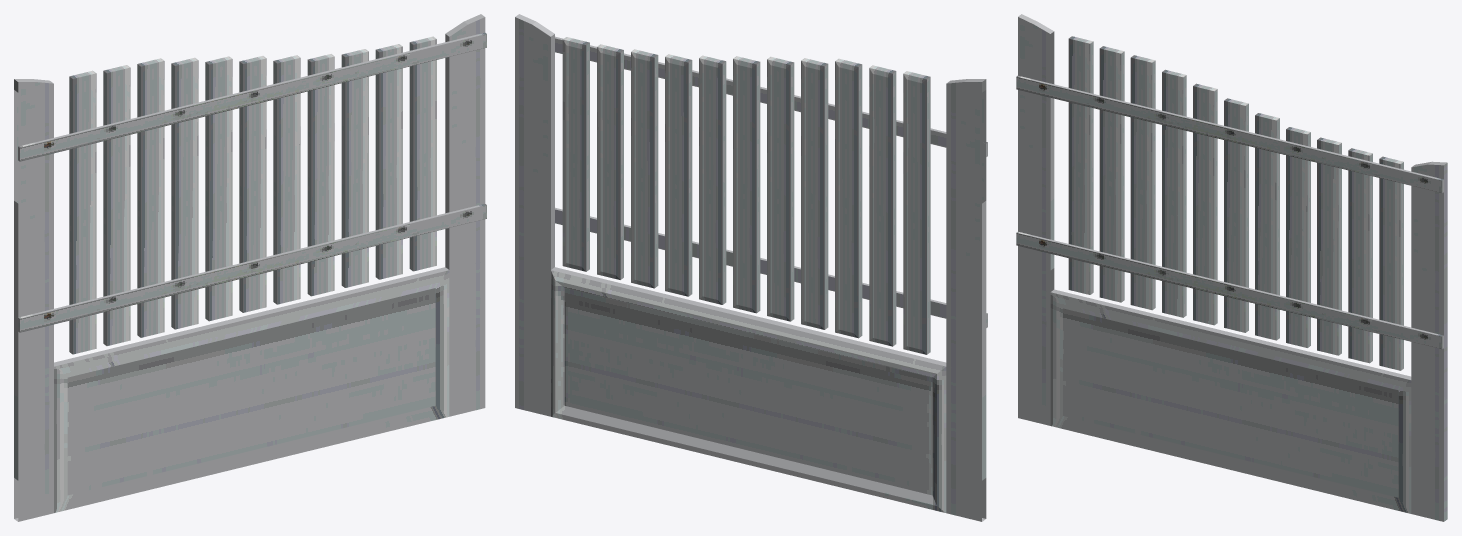
The model's file is plastic_gate_left.glb.
3 views of the same model, side by side, from view 1: azimuth 30°, elevation 25°; view 2: azimuth 150°, elevation 25°; view 3: azimuth 330°, elevation 25° (orthographic). The views are drawn at different scales.
Parts seen in each view (by area): view 1: plastic_gate_left; view 2: plastic_gate_left; view 3: plastic_gate_left.
Part boxes in pixels (x1=…): plastic_gate_left: x1=14, y1=14, x2=486, y2=521; plastic_gate_left: x1=515, y1=14, x2=987, y2=521; plastic_gate_left: x1=1016, y1=14, x2=1447, y2=521.
Size of the model in its own units: 2.5 by 2.25 by 0.0756.
1 material, 1 textured.
